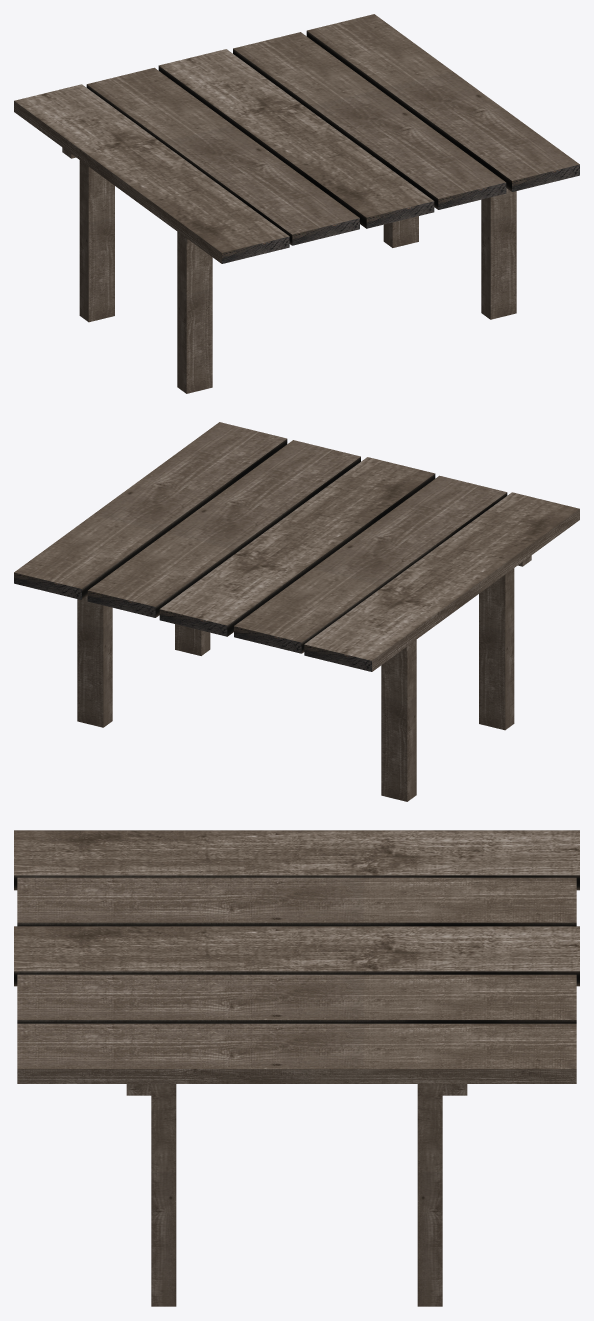
Rendered from squareTable.dae.
The picture shows the model from 3 angles, top to bottom: view 1: azimuth 30°, elevation 25°; view 2: azimuth 150°, elevation 25°; view 3: azimuth 270°, elevation 25°; orthographic projection. The views are drawn at different scales.
Visible parts, largest first — view 1: squareTable; view 2: squareTable; view 3: squareTable.
Boxes of the visible parts, x1=… form: squareTable: x1=14, y1=14, x2=579, y2=393; squareTable: x1=14, y1=422, x2=579, y2=801; squareTable: x1=14, y1=830, x2=579, y2=1306.
Bounding box in the file's own units: 1.78 × 0.8589 × 1.78.
Materials: 1 (1 with a texture image).
